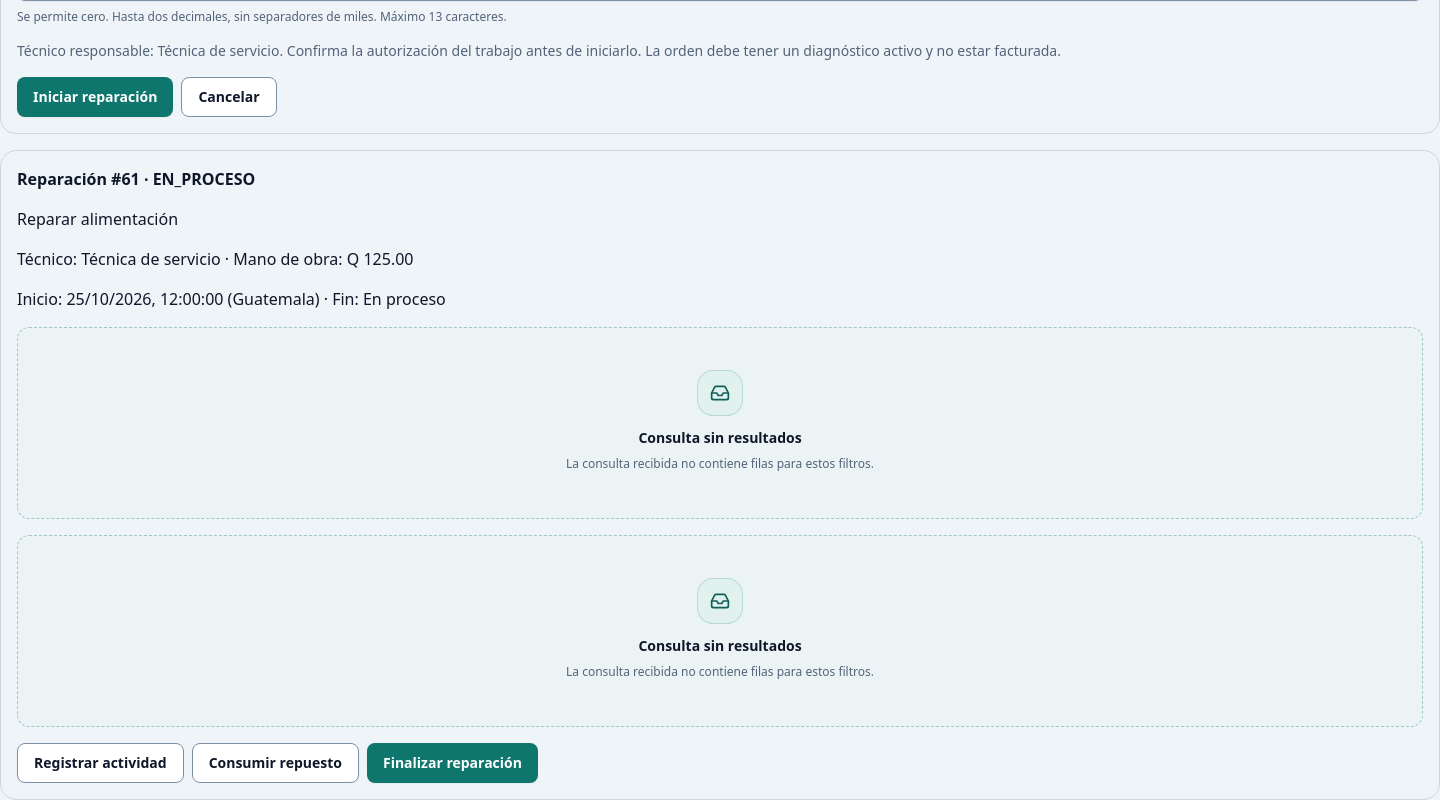
reparaciones operativas › finaliza con observación nullable y no afirma LISTO cuando quedan otros trabajos
The width and height of the screenshot is (1440, 800).
(page scrolled)
Click the button "Finalizar reparación": {"x": 452, "y": 763} [367,743,538,783]
(page scrolled)
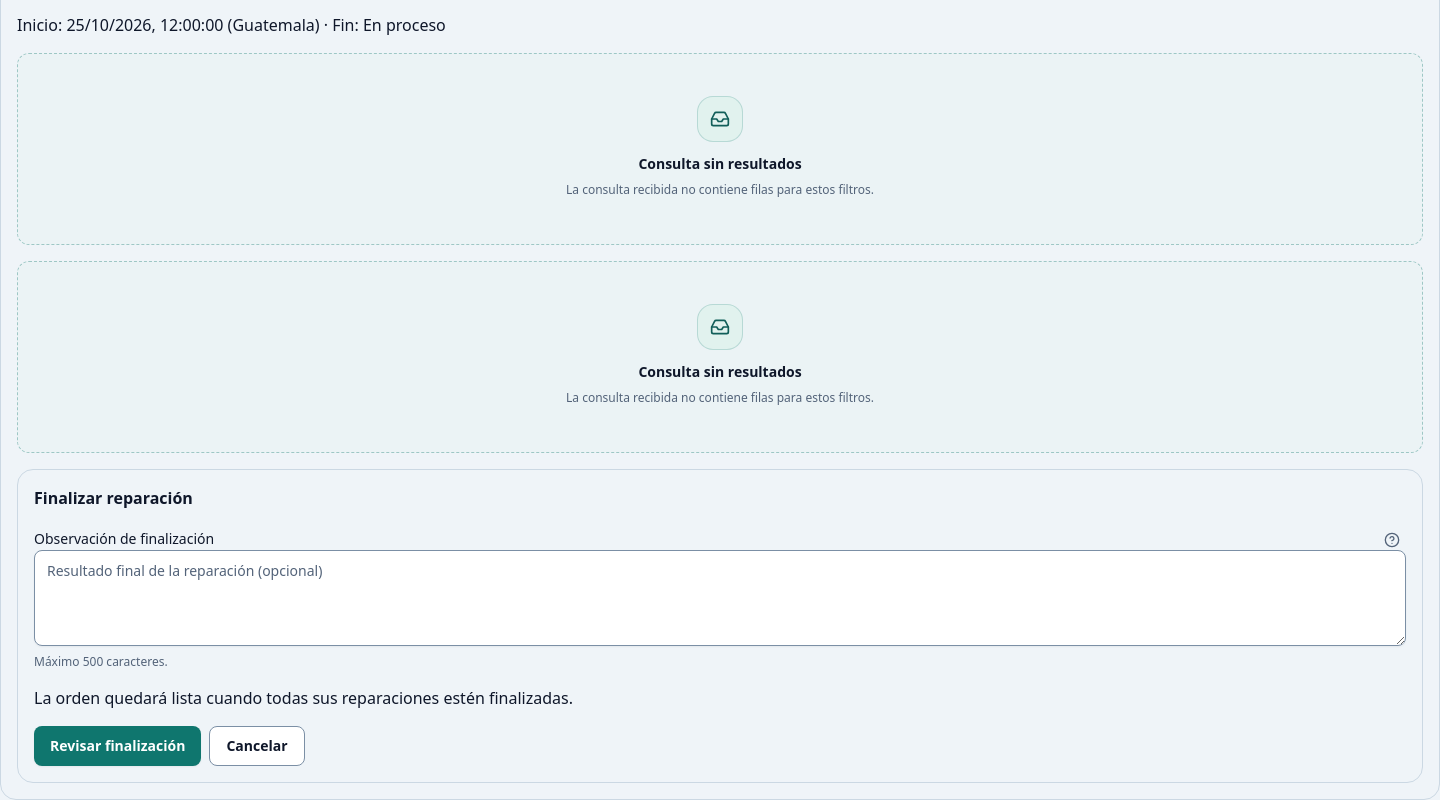
Submit the form "Finalizar reparación", box [17,469,1423,783]
(page scrolled)
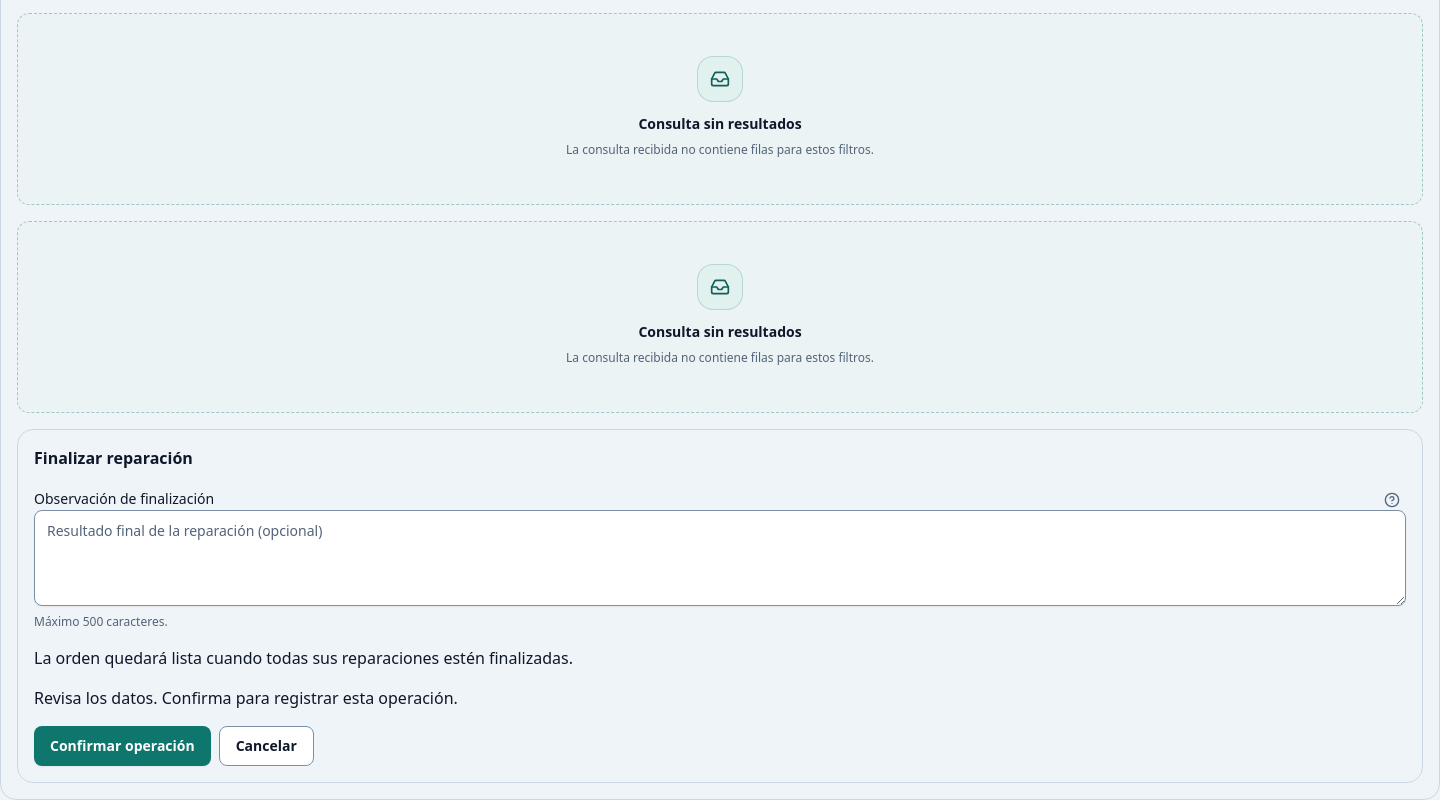
Click the button "Confirmar operación": {"x": 122, "y": 746} [34,726,211,766]
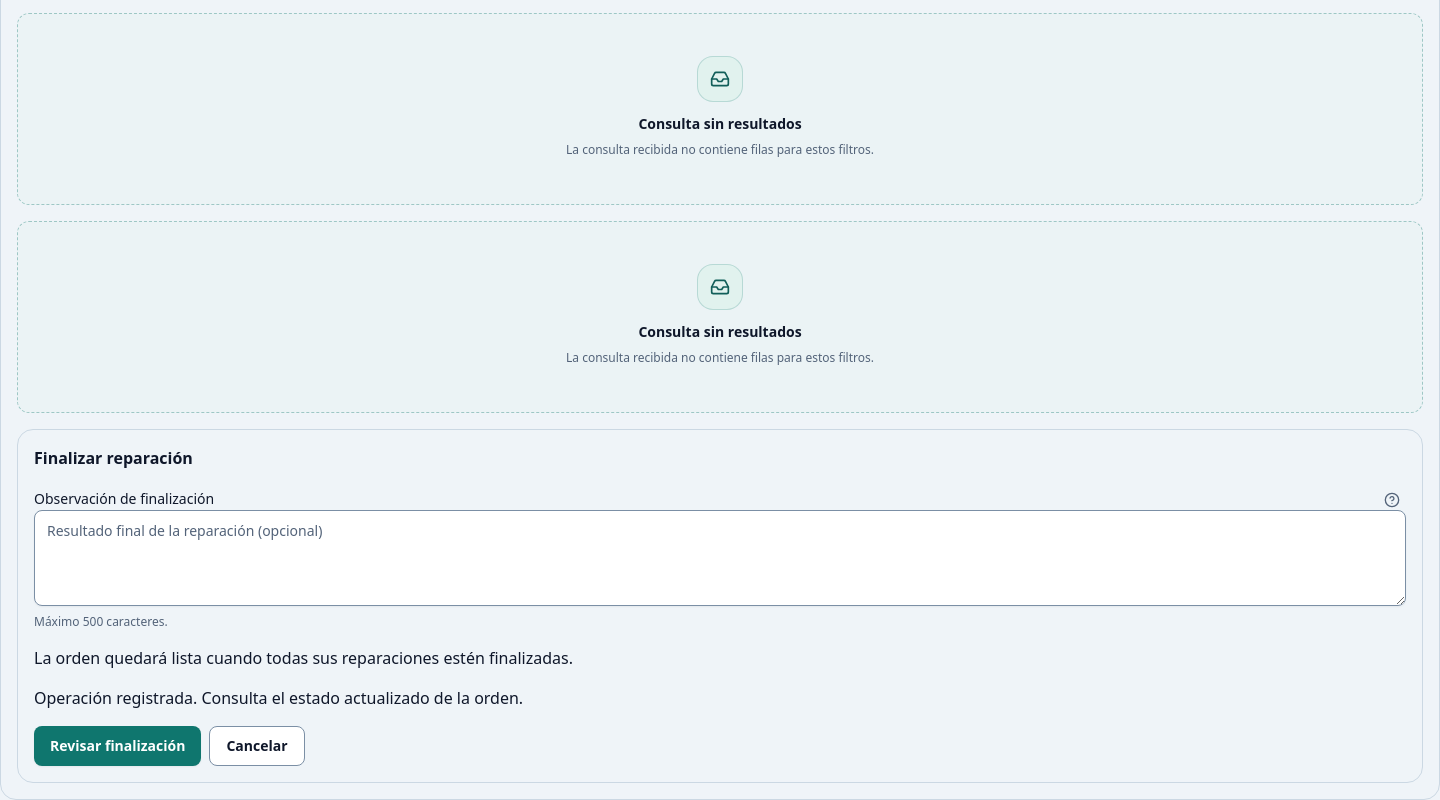
Check: the text "Operación registrada. Consulta el estado actualizado de la orden." is shown, box [34,687,523,709]
